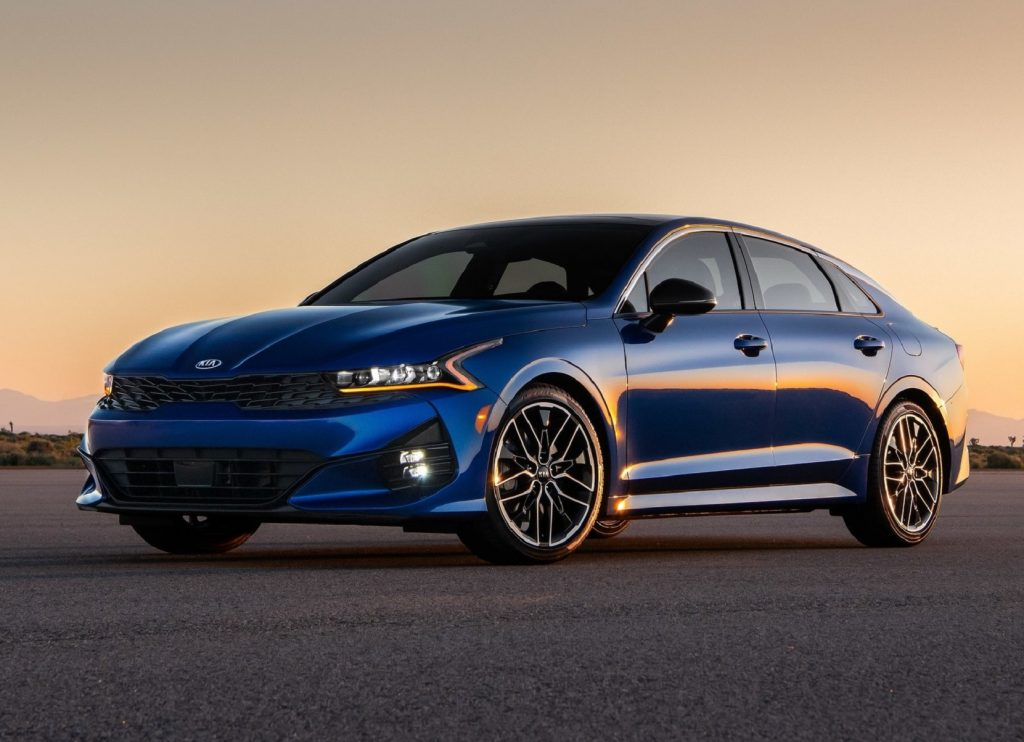car: (74, 213, 971, 567)
